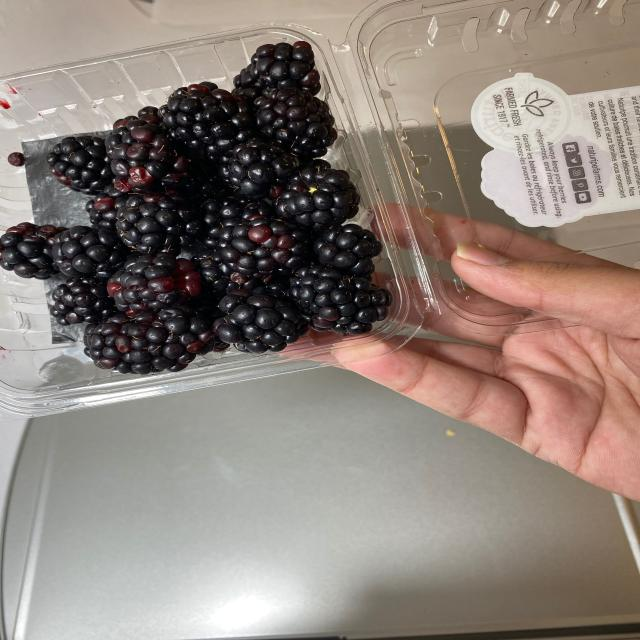blackberries: (44, 30, 356, 382)
